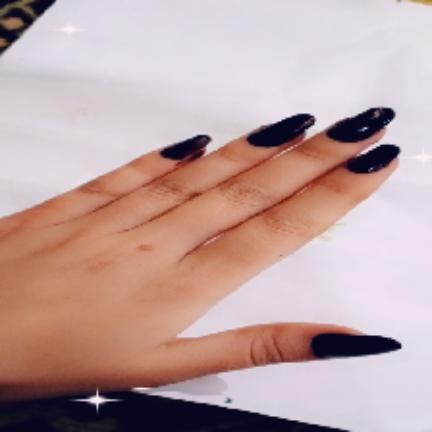Nail: (326, 107, 395, 143), (247, 113, 316, 147), (311, 333, 402, 358), (347, 144, 400, 173), (161, 134, 212, 160)
